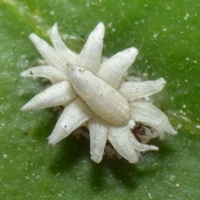insect: (20, 22, 175, 162)
